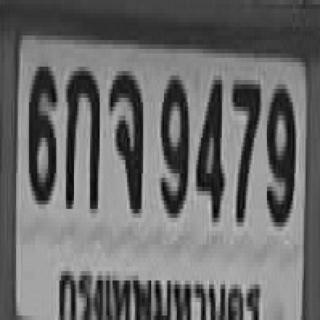A01: (64, 64, 98, 207)
A08: (108, 67, 141, 209)
N04: (195, 76, 222, 218)
N06: (27, 62, 55, 200)
N07: (232, 78, 259, 220)
N09: (265, 80, 294, 222), (159, 71, 186, 213)
P04: (58, 261, 265, 320)
